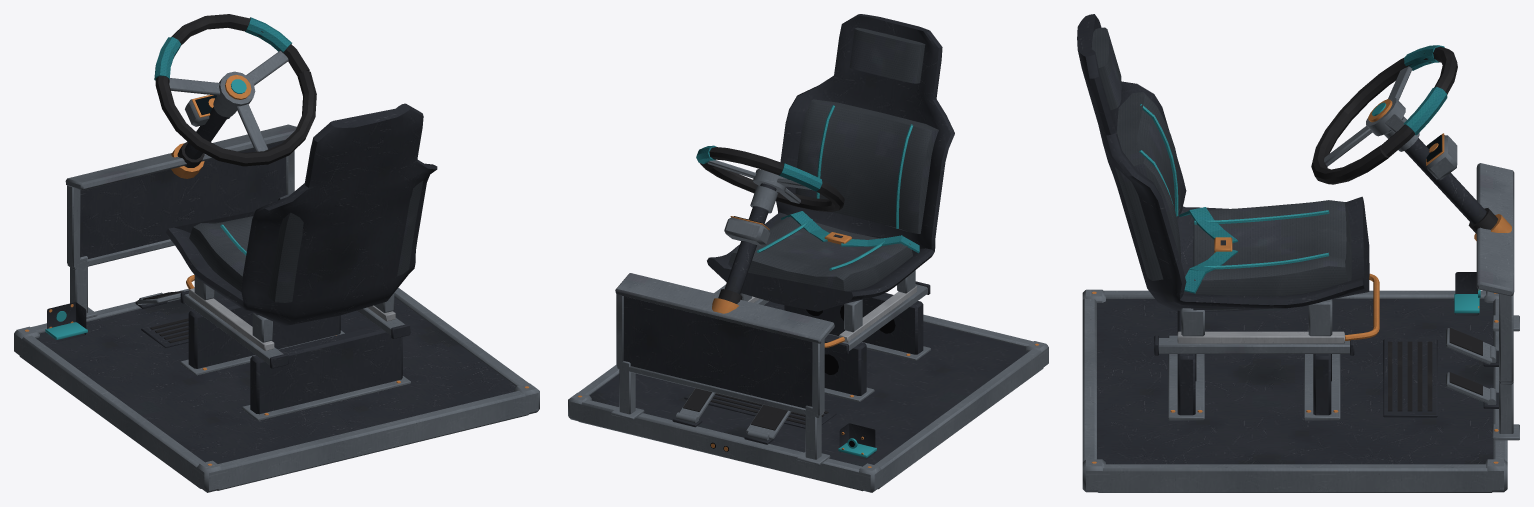
File: drivers_seat_2.glb
3 views of the same model, side by side, from view 1: azimuth 30°, elevation 25°; view 2: azimuth 150°, elevation 25°; view 3: azimuth 270°, elevation 25° (orthographic). The views are drawn at different scales.
Parts seen in each view (by area): view 1: Base, ShellFrame, Steering, Backrest, Cushion; view 2: Base, ShellFrame, Backrest, Cushion, Steering, Brake, Throttle; view 3: Base, Cushion, ShellFrame, Steering, Backrest, Brake, Throttle.
Part boxes in pixels (bbox=[...]): Base: bbox=[14, 95, 539, 492]; ShellFrame: bbox=[166, 103, 437, 342]; Steering: bbox=[154, 14, 316, 166]; Backrest: bbox=[267, 180, 423, 302]; Cushion: bbox=[189, 216, 257, 315]; Base: bbox=[568, 183, 1048, 492]; ShellFrame: bbox=[707, 14, 954, 332]; Backrest: bbox=[795, 27, 938, 233]; Cushion: bbox=[728, 211, 919, 291]; Steering: bbox=[696, 145, 844, 211]; Brake: bbox=[746, 404, 791, 439]; Throttle: bbox=[679, 388, 715, 419]; Base: bbox=[1082, 116, 1519, 492]; Cushion: bbox=[1179, 200, 1351, 310]; ShellFrame: bbox=[1077, 14, 1369, 336]; Steering: bbox=[1311, 45, 1457, 184]; Backrest: bbox=[1091, 27, 1180, 280]; Brake: bbox=[1446, 328, 1492, 364]; Throttle: bbox=[1446, 372, 1490, 403].
Size of the model in its own units: 0.94 by 0.9028 by 0.9791.
Materials: 11 (8 with a texture image).
